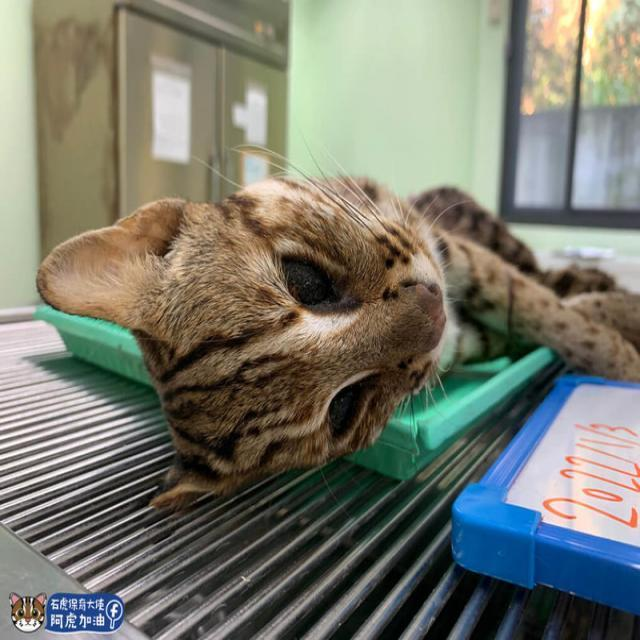leopard: (122, 118, 624, 509)
